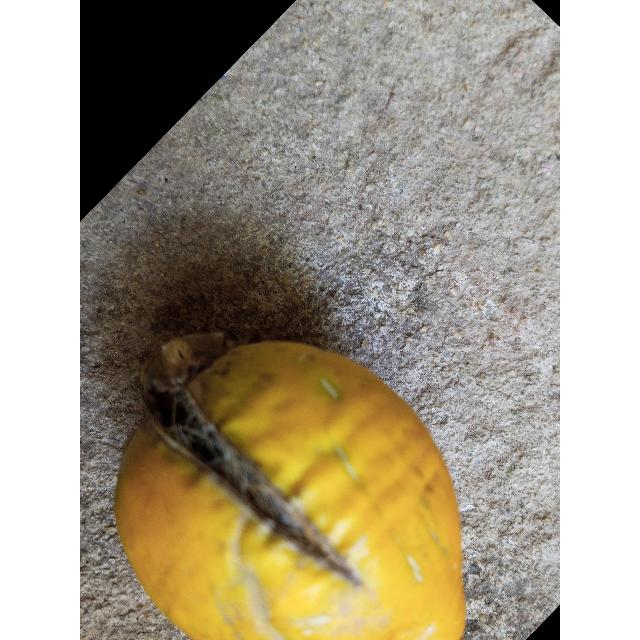damaged: (114, 339, 466, 640)
